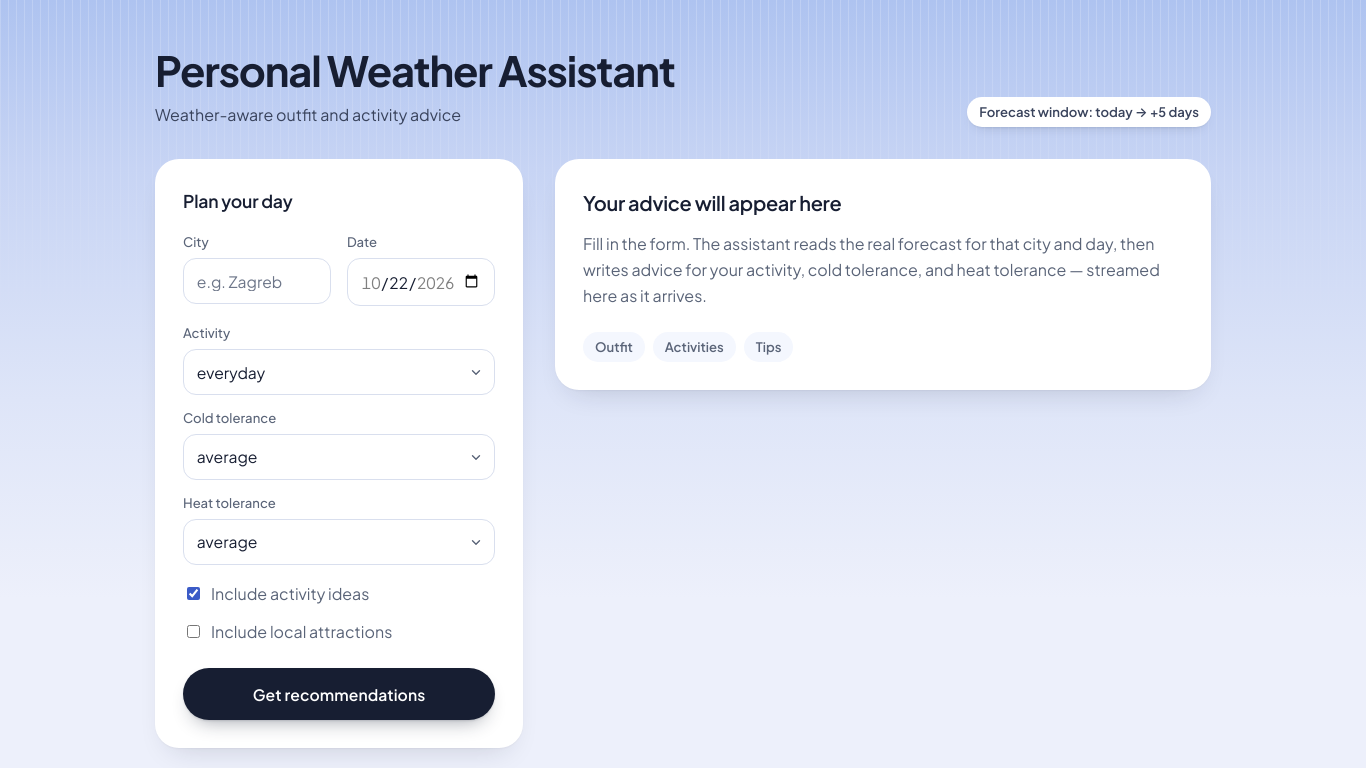
Test: App day mode › shows API errors inline
Type "Xyzzyville" into the field labelled "City". click: (257, 281)
box: x1=183 y1=258 x2=331 y2=304
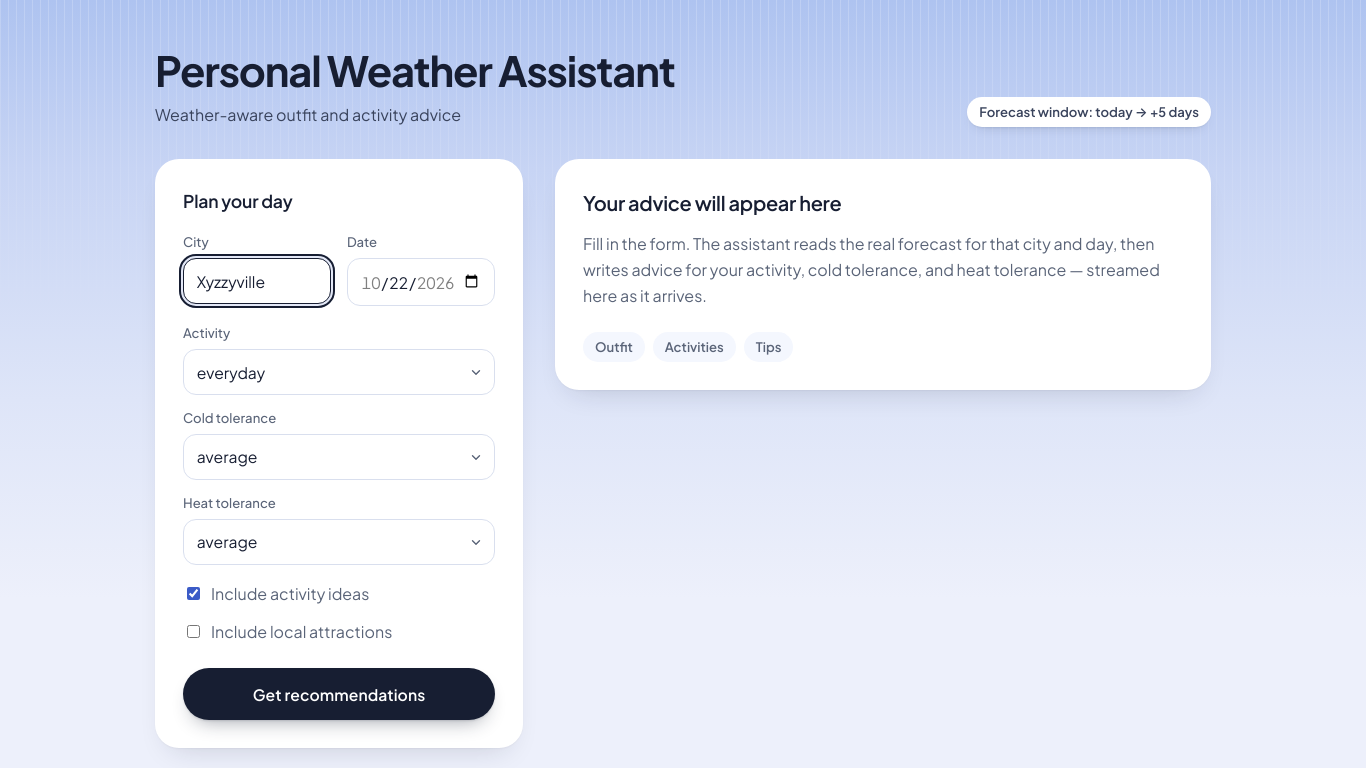
Click the button "Get recommendations". click: (339, 694)
box: x1=183 y1=668 x2=495 y2=720
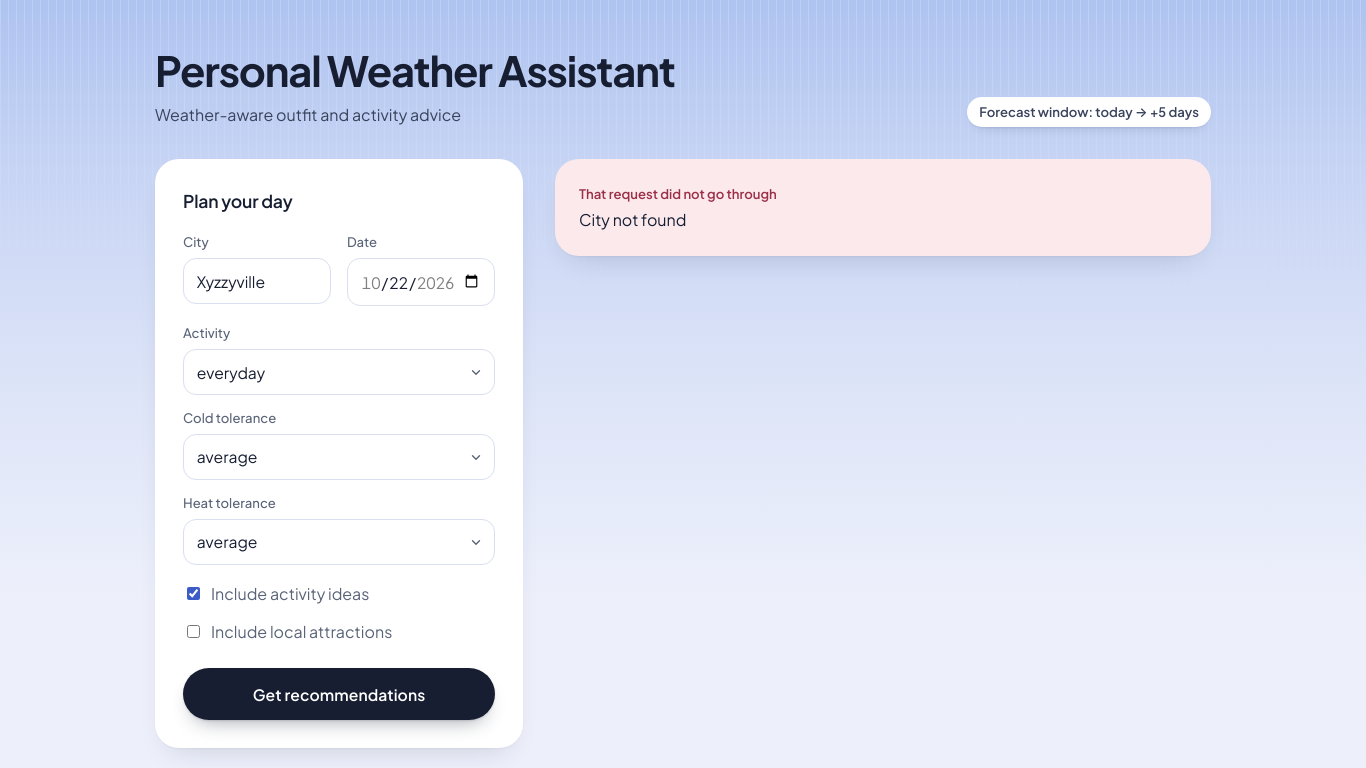
expect the text "City not found" is shown: met, box x1=579 y1=209 x2=686 y2=230
